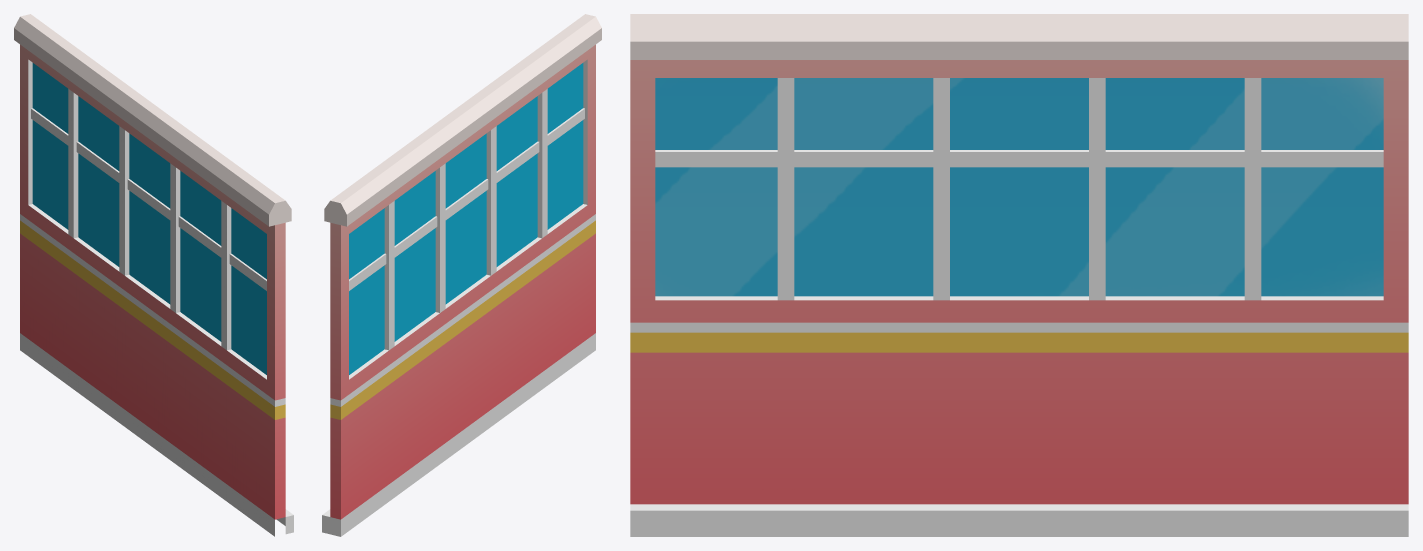
Rendered from 4Wall_Window.fbx.
3 renders of one model, left to right at view 1: azimuth 30°, elevation 25°; view 2: azimuth 150°, elevation 25°; view 3: azimuth 270°, elevation 25°, orthographic. The views are drawn at different scales.
Visible parts, largest first — view 1: 4Wall_Window; view 2: 4Wall_Window; view 3: 4Wall_Window.
Boxes of the visible parts, bbox=[...] form: 4Wall_Window: bbox=[14, 14, 293, 536]; 4Wall_Window: bbox=[322, 14, 601, 536]; 4Wall_Window: bbox=[630, 14, 1408, 536].
Size of the model in its own units: 28.14 by 360 by 499.
